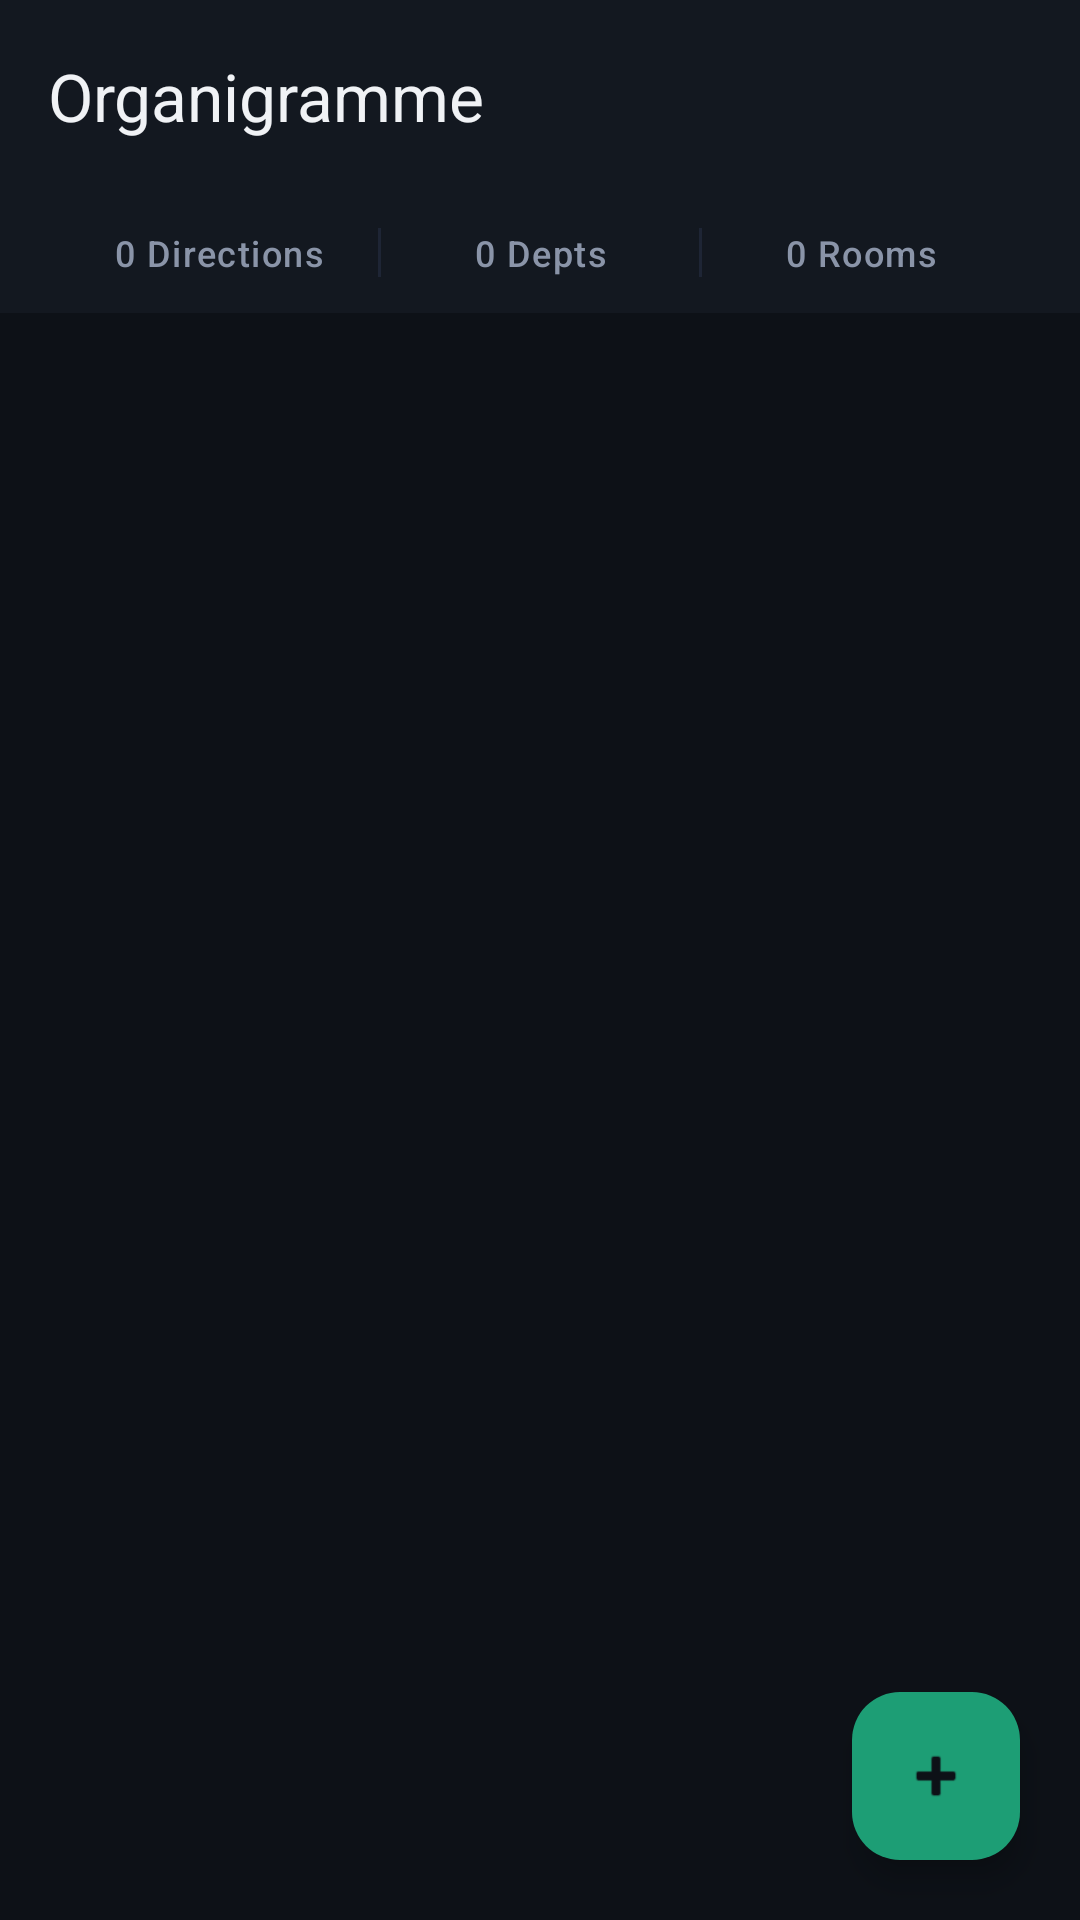

Icons on this 1080x1920 Android screen, each with its box as (x1, y1, x2, y2):
Add Direction: (852, 1692, 1020, 1860)
